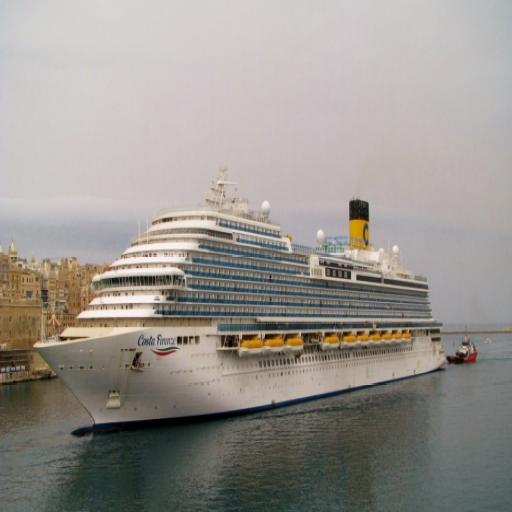cruises: (36, 161, 449, 431)
